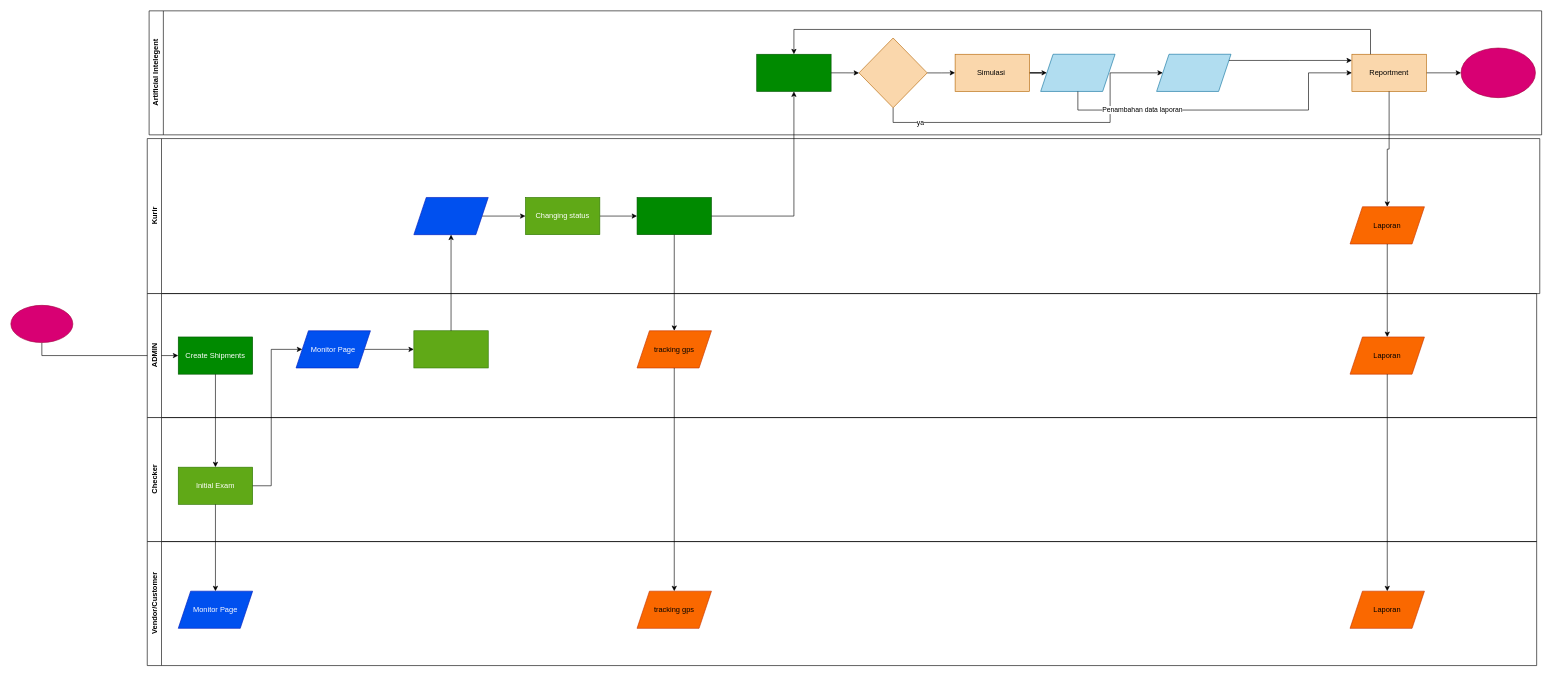
The diagram is 1552 pixels wide and 676 high, and some of its shapes have lost their labels. Each missing label, with the centre of its shape:
"aman" goes at [1193,72].
"AUTOMATION AI" goes at [793,72].
"Condition ?" goes at [892,72].
"Pemilihan Kurir" goes at [450,349].
"Penyimpangan" goes at [1077,72].
"Running Monitor Processed" goes at [673,216].
"Selesai" goes at [1497,72].
"Start" goes at [41,324].
"terpilih" goes at [450,216].
